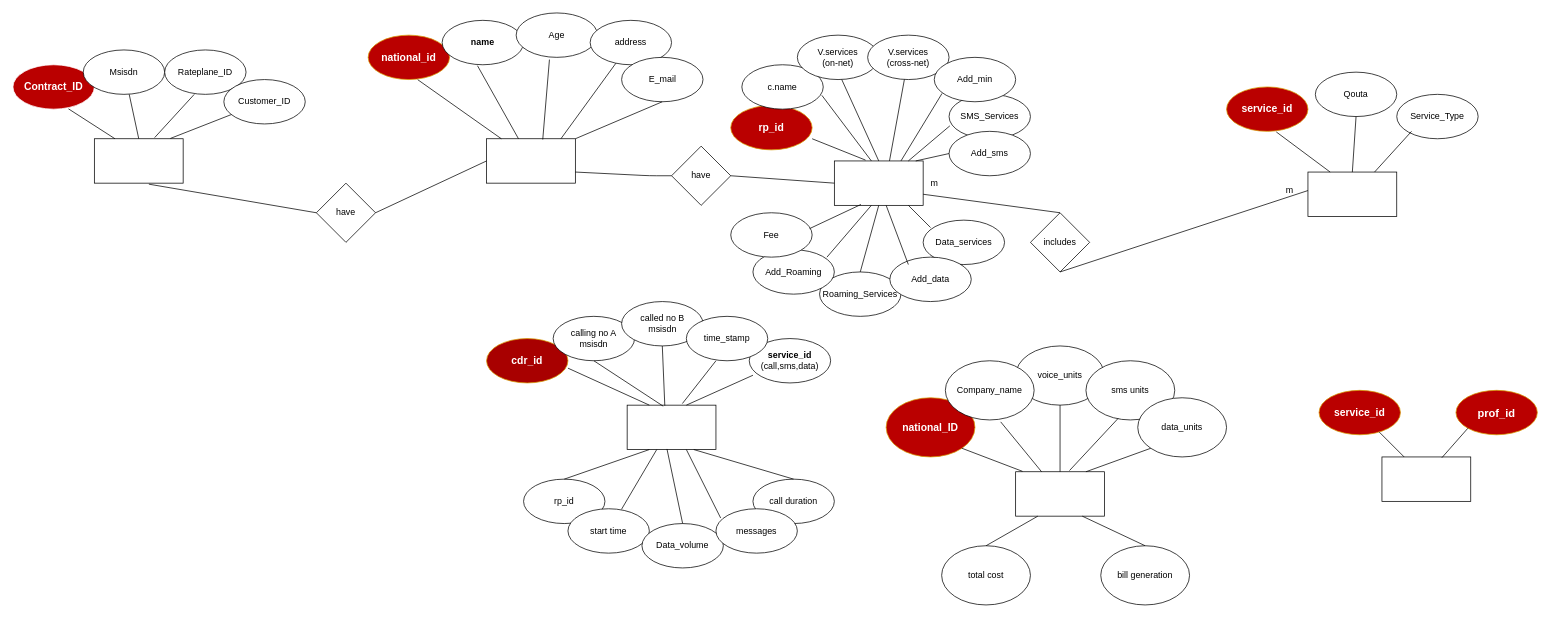
The diagram is 1550 pixels wide and 618 high, and some of its shapes have lost their labels. Here are the shapes that lost their labels. From the top down, the centre of each, then its label:
pixel 138 160: Contract
pixel 530 160: customer
pixel 878 182: Rateplane
pixel 1352 193: Service_Package
pixel 671 427: CDR
pixel 1059 493: invoices (Billing pdf)
pixel 1426 478: RP_Service Package
